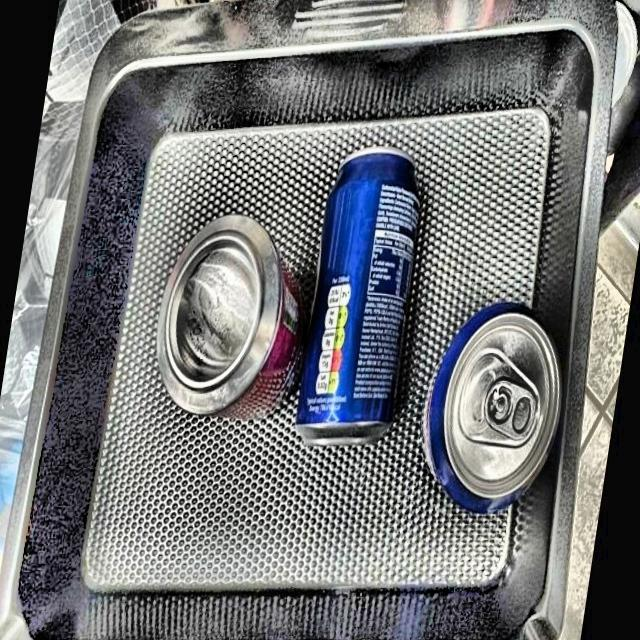coke-can: (159, 219, 306, 435)
pepsi-can: (305, 152, 412, 445), (426, 305, 563, 524)
